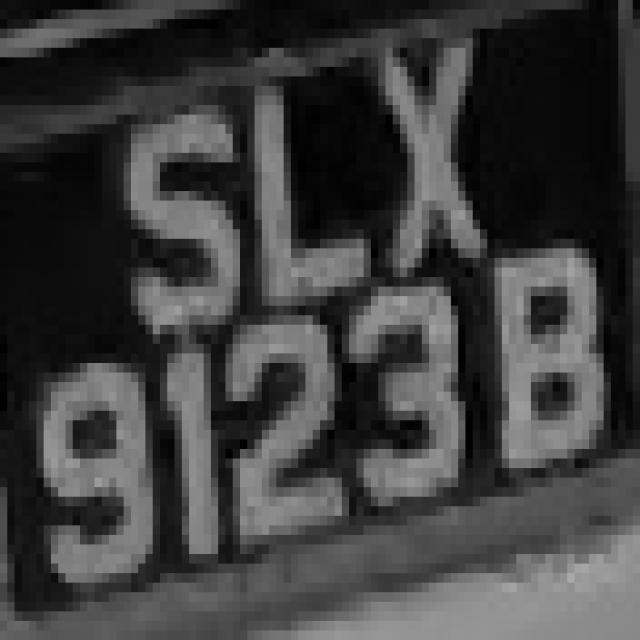1: (131, 315, 218, 592)
2: (211, 315, 334, 564)
3: (334, 258, 472, 516)
9: (15, 325, 160, 611)
B: (473, 210, 625, 478)
L: (218, 48, 364, 344)
S: (109, 67, 233, 363)
X: (349, 38, 502, 306)
